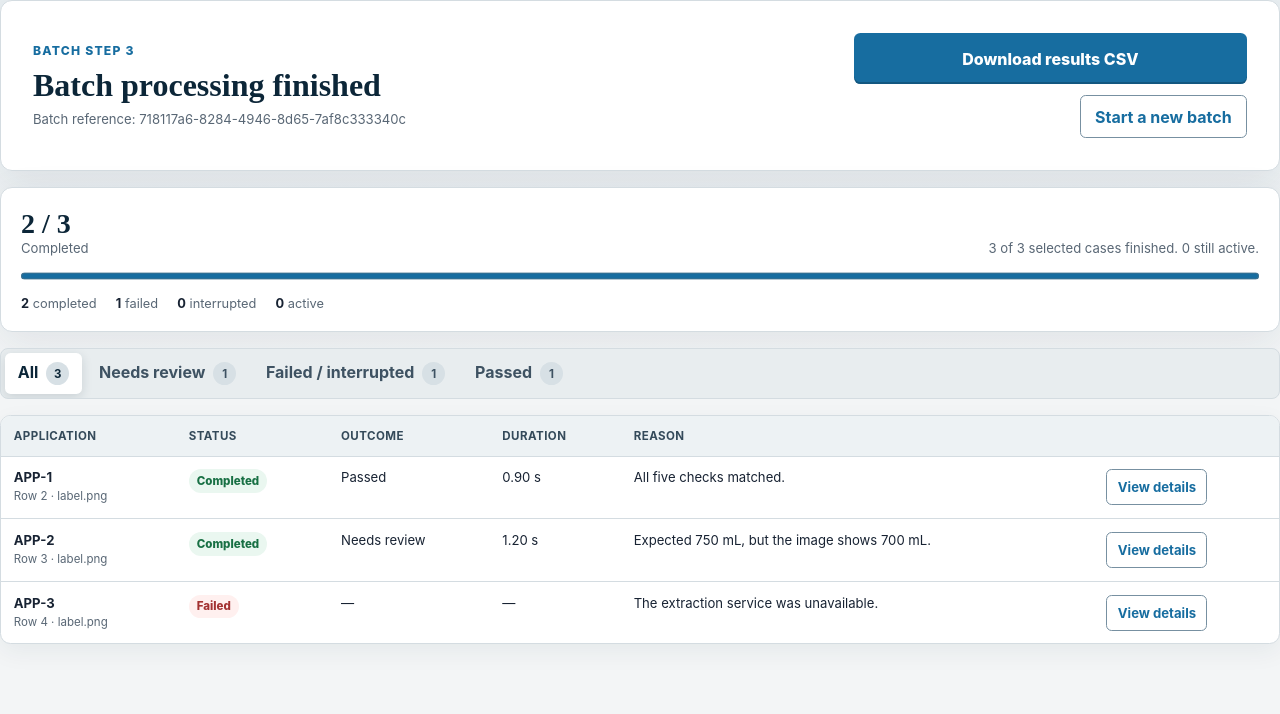
Test case: BatchWorkflow › shows terminal progress, filters outcomes, reuses comparison detail, and offers export
Expected: the heading "Batch processing finished" is shown, 33,67 -> 406,104
Expected: the text "2 / 3" is shown, 21,208 -> 71,239
Click the button "Needs review 1" at [168, 373], box 86,353 -> 249,394
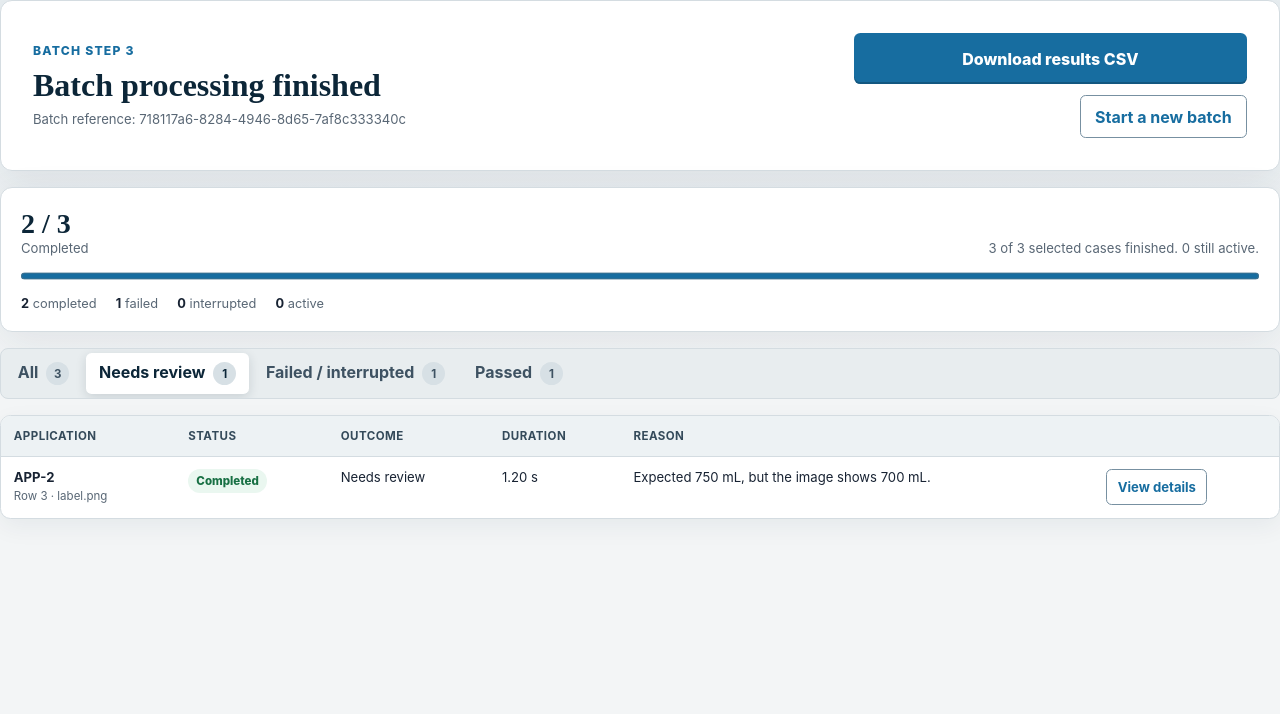
Expected: the column heading "APP-2 Row 3 · label.png" is shown, 1,456 -> 176,518
Expected: the text "APP-1" is gone
Click the button "View details" at [1157, 487], box 1106,469 -> 1207,505
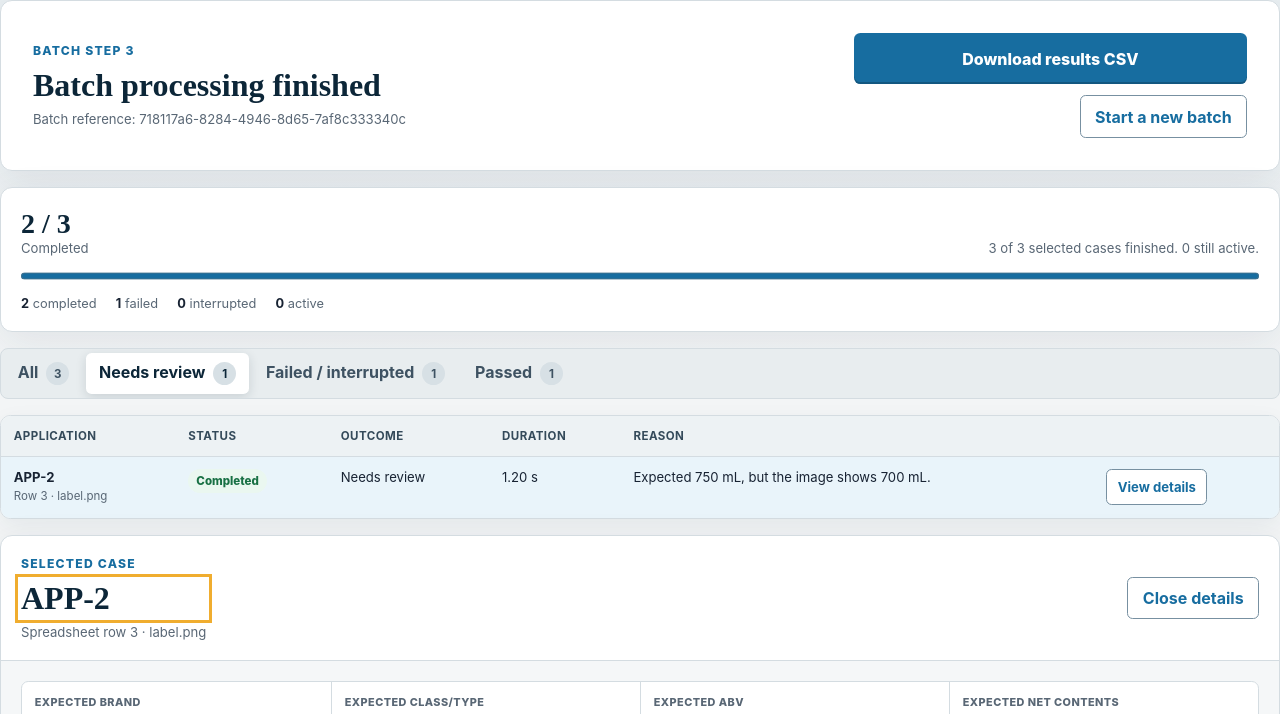
Expected: the heading "APP-2" is shown, 21,580 -> 110,616
Click the button "Failed / interrupted 1" at [356, 373], box 253,353 -> 458,394
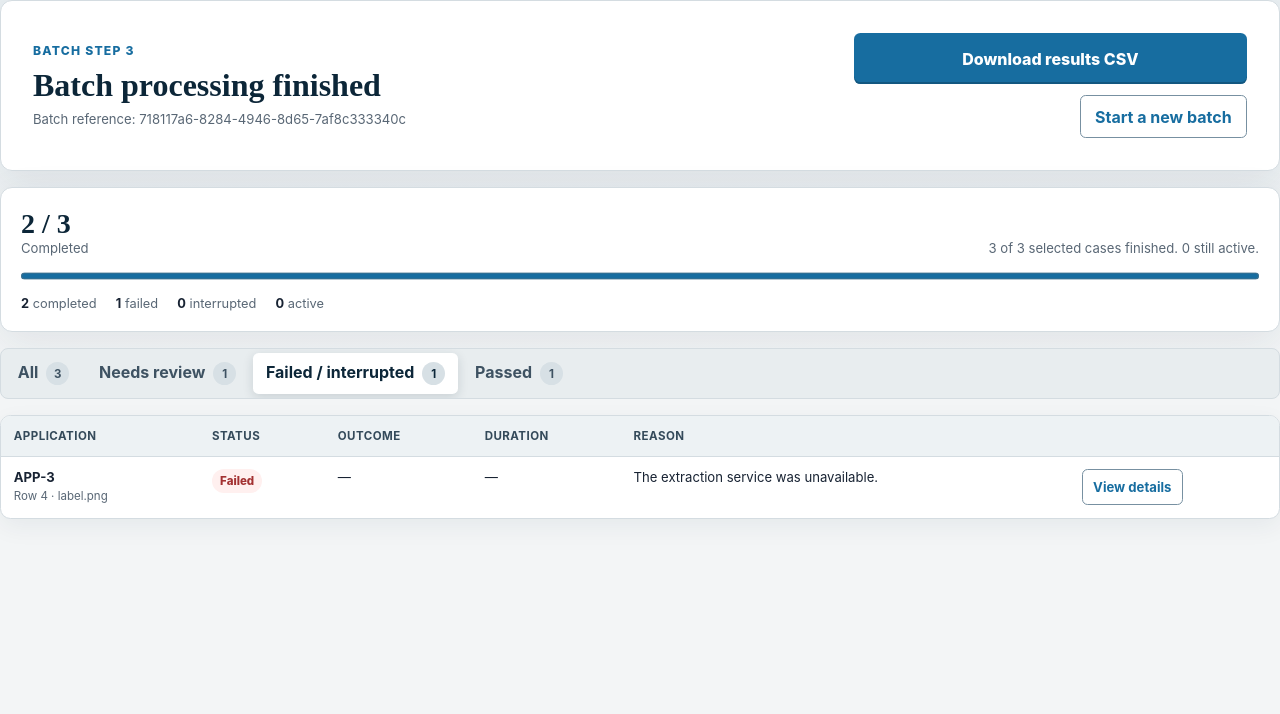
Expected: the column heading "APP-3 Row 4 · label.png" is shown, 1,456 -> 199,518
